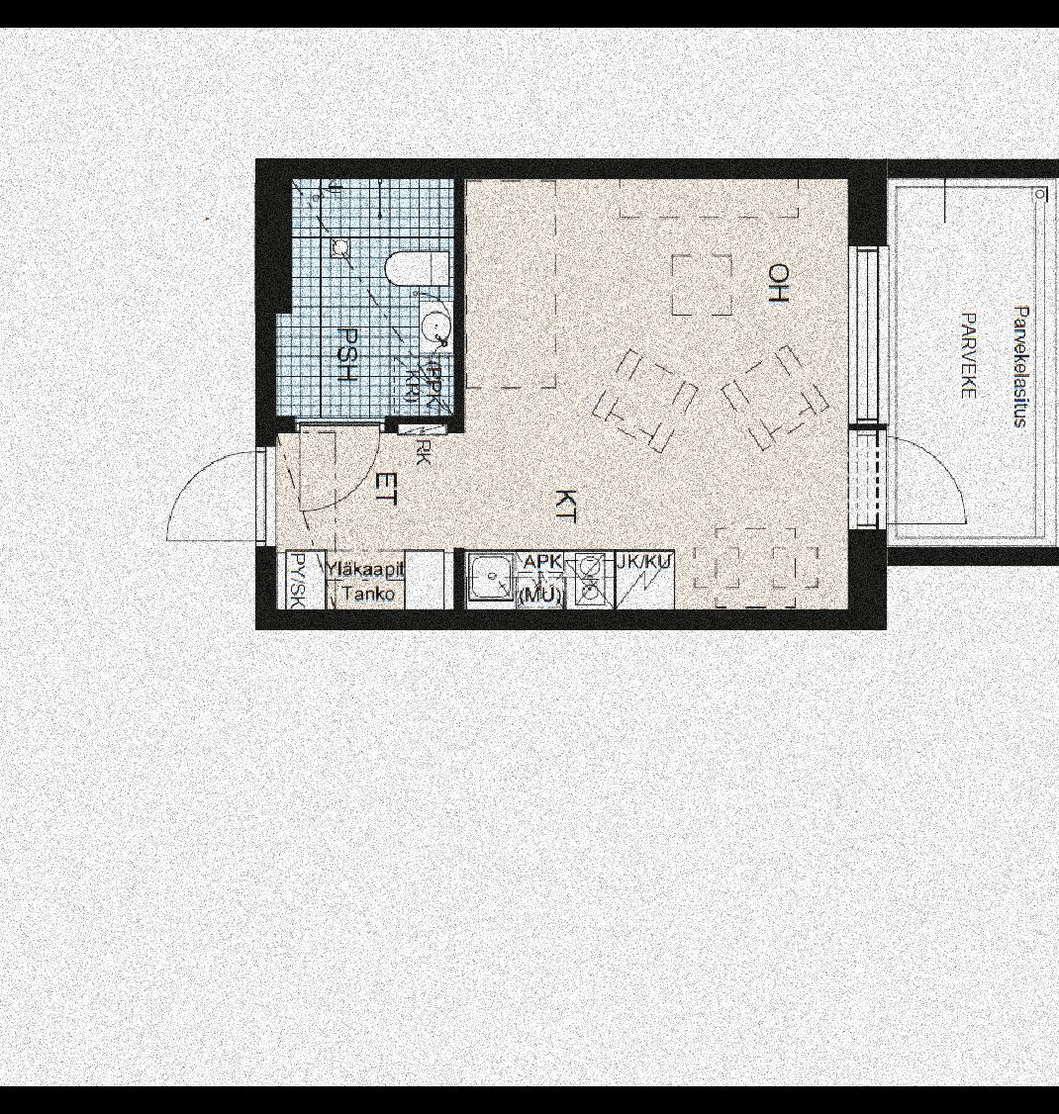door: (159, 445, 268, 560), (292, 420, 384, 513), (889, 439, 970, 526)
window: (851, 244, 889, 423), (852, 427, 881, 525)
zone: (459, 182, 845, 603), (890, 176, 1059, 544), (276, 183, 452, 418), (276, 429, 459, 598)
